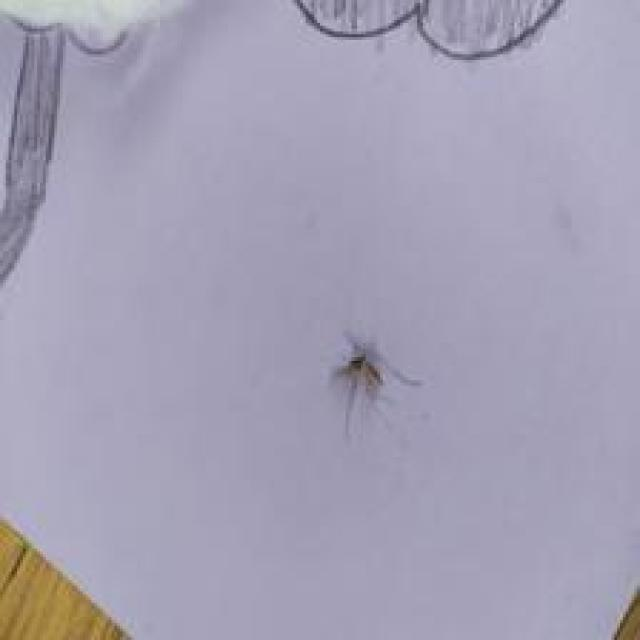Culex: (327, 328, 424, 443)
